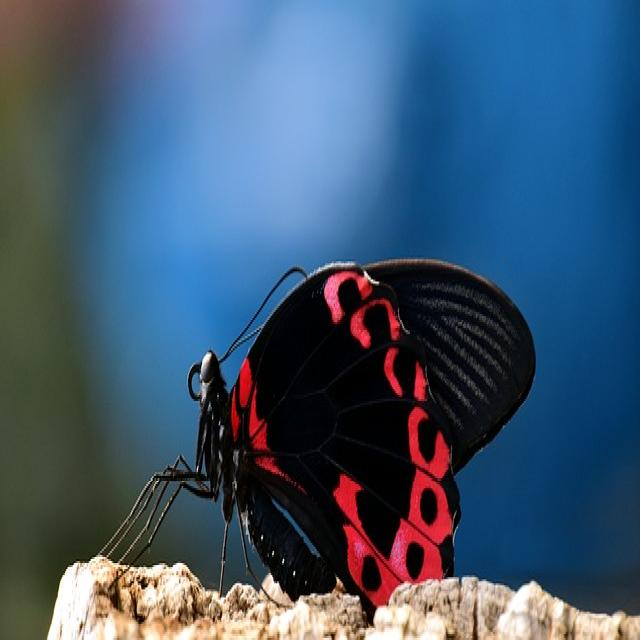butterfly: (102, 261, 535, 615)
